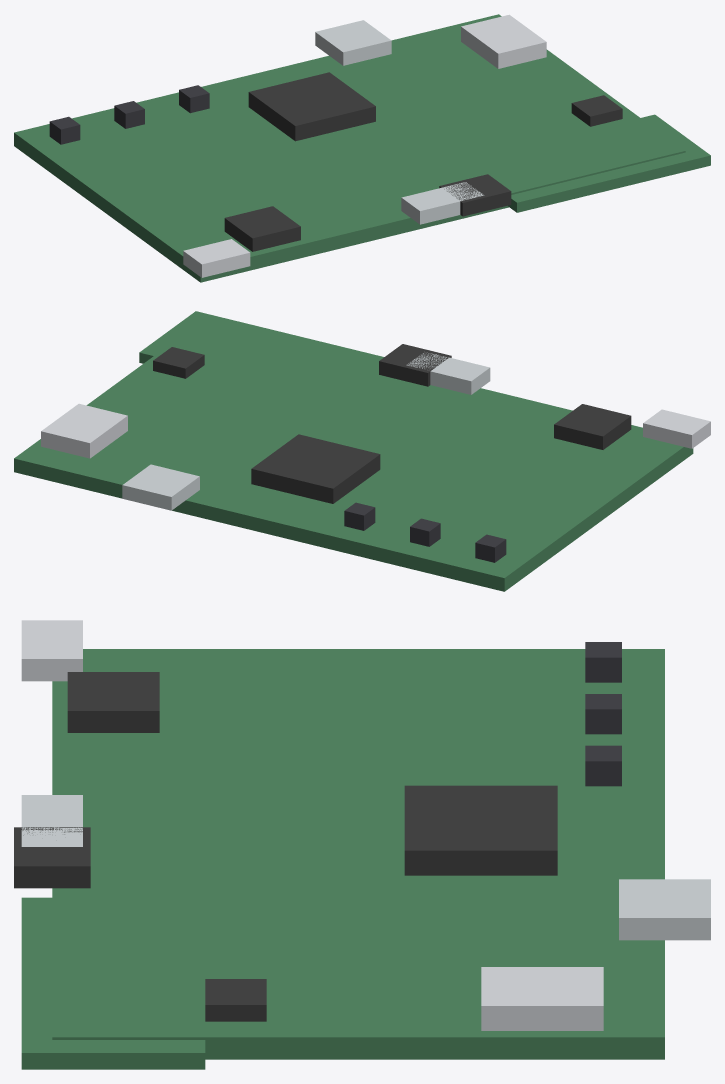
File: mainboard.gltf
3 renders of one model, top to bottom at view 1: azimuth 30°, elevation 25°; view 2: azimuth 150°, elevation 25°; view 3: azimuth 270°, elevation 25°, orthographic. The views are drawn at different scales.
Visible parts, largest first — view 1: mainboard; view 2: mainboard; view 3: mainboard.
Part boxes in pixels (box(x1,y1,x2,y2)): mainboard: box(14, 14, 710, 282); mainboard: box(14, 311, 710, 591); mainboard: box(14, 620, 710, 1069).
Size of the model in its own units: 0.315 by 0.017 by 0.2275.
